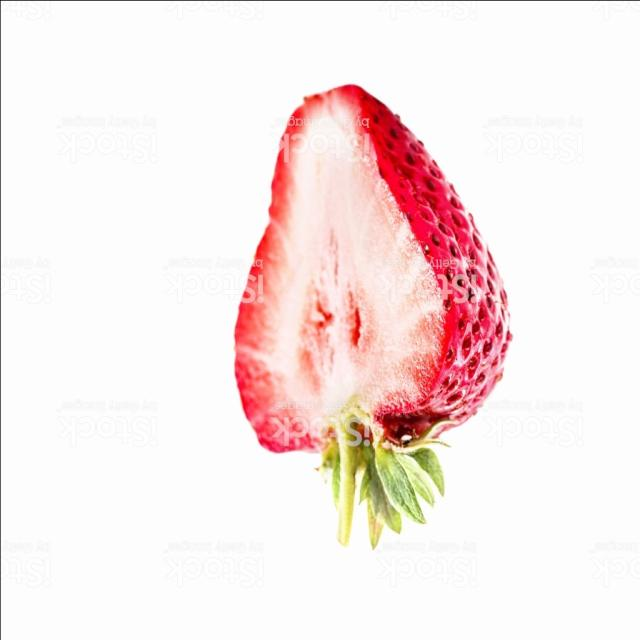strawberry: (215, 61, 527, 570)
